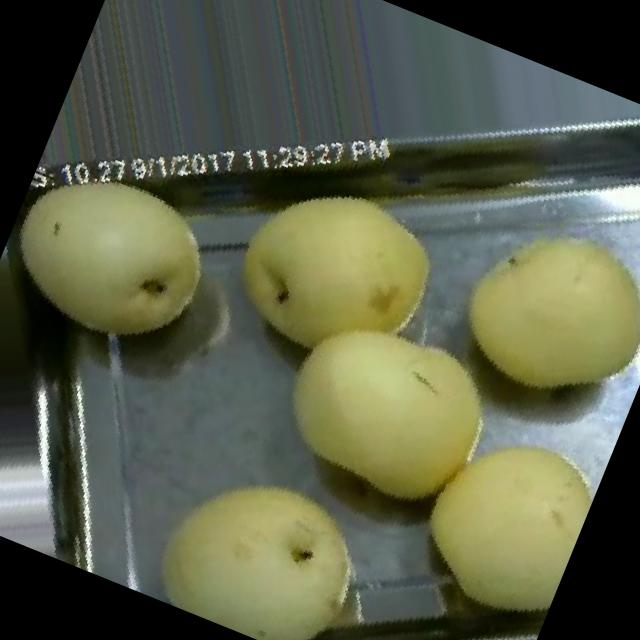Fruit: (235, 264, 542, 552), (190, 140, 473, 406), (0, 129, 254, 385), (124, 420, 415, 640), (374, 387, 612, 640), (424, 185, 640, 440)
